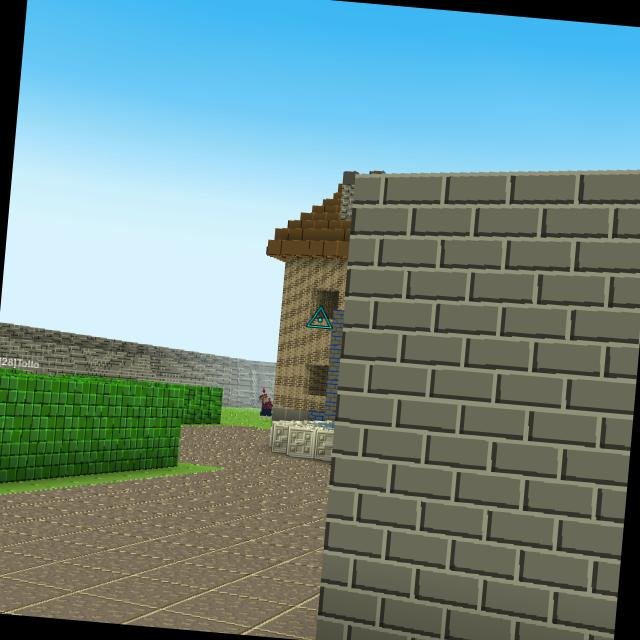enemy: (258, 389, 272, 416)
